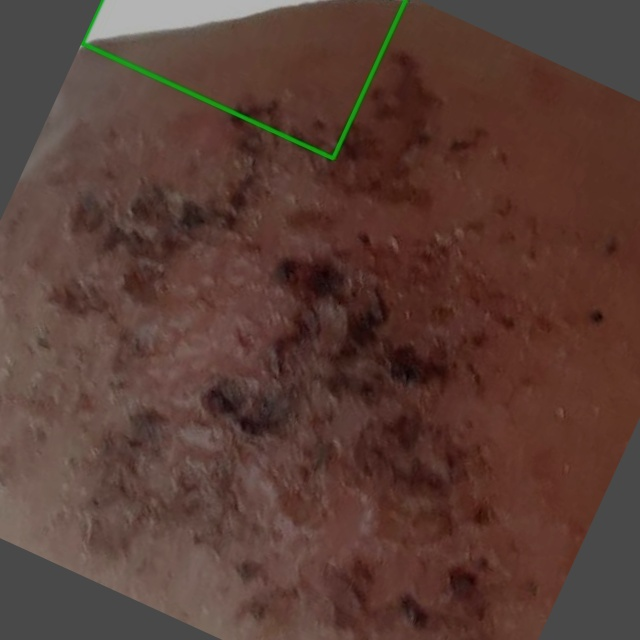Contact Dermatitis: (82, 0, 406, 157)
